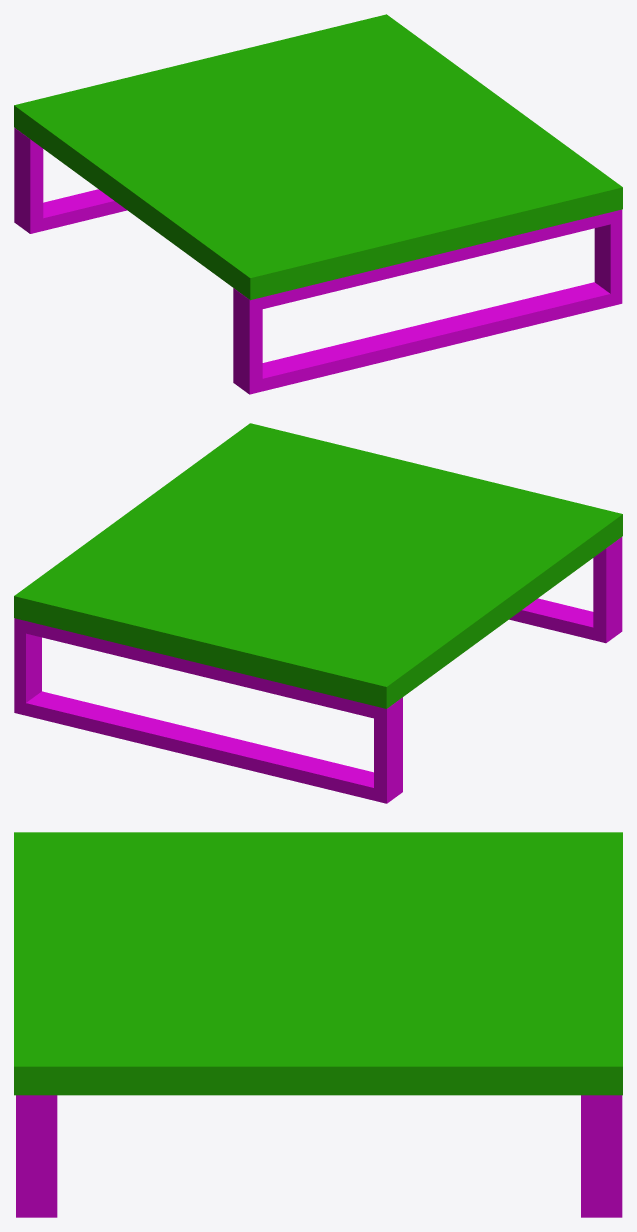
Rendered from L_Mesa.fbx.
3 renders of one model, top to bottom at view 1: azimuth 30°, elevation 25°; view 2: azimuth 150°, elevation 25°; view 3: azimuth 270°, elevation 25°, orthographic. The views are drawn at different scales.
Parts seen in each view (by area): view 1: L_topMesa, L_pata1, L_pata2; view 2: L_topMesa, L_pata2, L_pata1; view 3: L_topMesa, L_pata1, L_pata2.
Boxes of the visible parts, bbox=[...] form: L_topMesa: bbox=[14, 14, 622, 300]; L_pata1: bbox=[233, 209, 622, 394]; L_pata2: bbox=[14, 128, 127, 233]; L_topMesa: bbox=[14, 423, 622, 708]; L_pata2: bbox=[14, 618, 402, 803]; L_pata1: bbox=[509, 537, 622, 643]; L_topMesa: bbox=[14, 832, 622, 1095]; L_pata1: bbox=[16, 1095, 57, 1217]; L_pata2: bbox=[581, 1095, 622, 1217].
Bounding box in the file's own units: 151 × 45.37 × 166.
